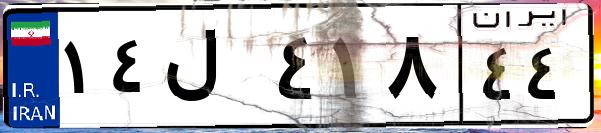1: (330, 28, 385, 110), (57, 26, 110, 100)
4: (270, 28, 330, 110), (475, 38, 525, 113), (525, 38, 570, 115), (110, 28, 158, 98)
8: (385, 28, 445, 110)
ل: (158, 20, 270, 120)
